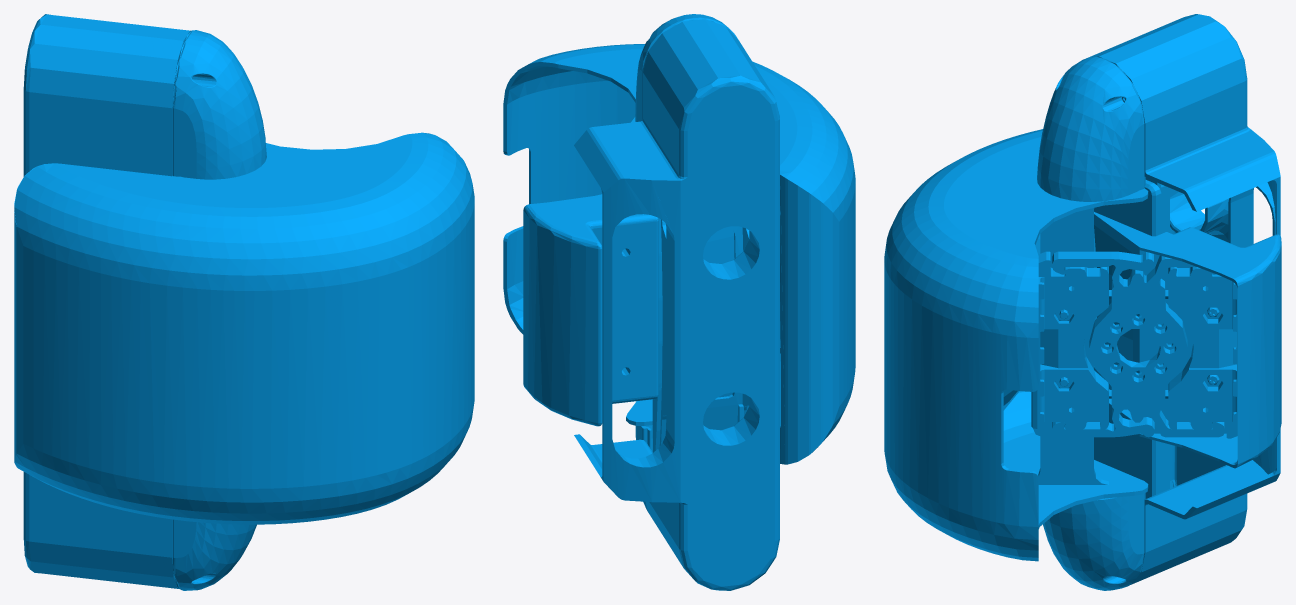
File: mteg102_head.dae
3 views of the same model, side by side, from view 1: azimuth 30°, elevation 25°; view 2: azimuth 150°, elevation 25°; view 3: azimuth 270°, elevation 25° (orthographic). The views are drawn at different scales.
Visible parts, largest first — view 1: mteg102_head; view 2: mteg102_head; view 3: mteg102_head.
Boxes of the visible parts, x1=… form: mteg102_head: x1=14, y1=14, x2=474, y2=590; mteg102_head: x1=503, y1=14, x2=855, y2=590; mteg102_head: x1=884, y1=14, x2=1281, y2=590.
Size of the model in its own units: 148 by 133 by 195.
